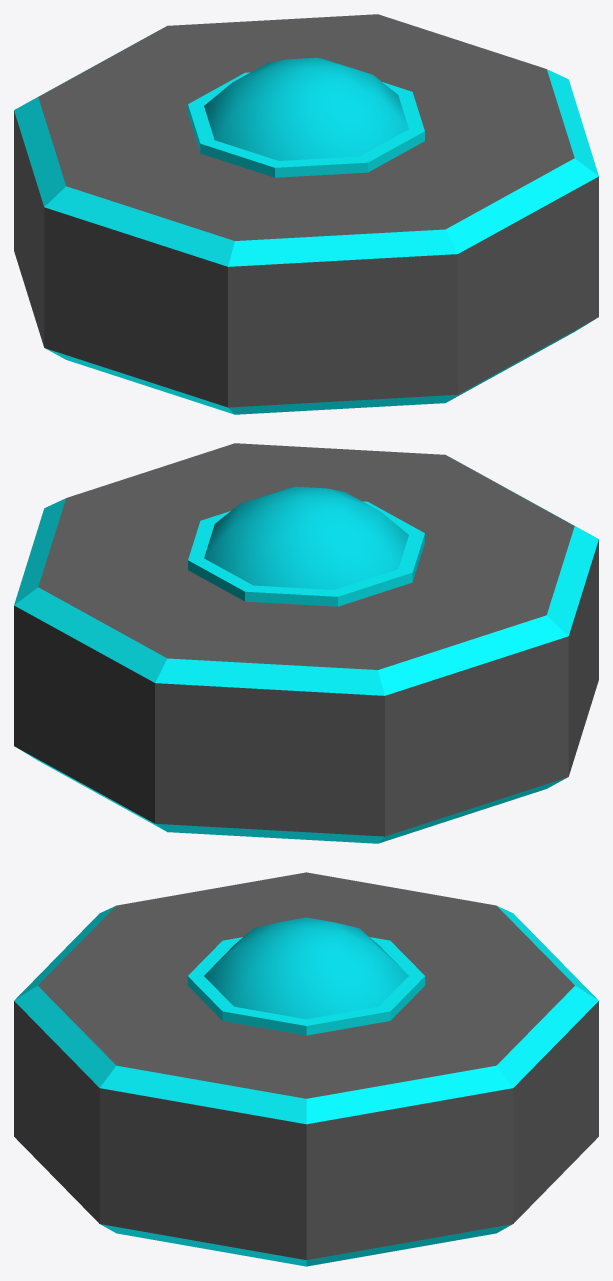
Rendered from BlueCore.fbx.
3 views of the same model, one above another, from view 1: azimuth 30°, elevation 25°; view 2: azimuth 150°, elevation 25°; view 3: azimuth 270°, elevation 25° (orthographic). The views are drawn at different scales.
Parts seen in each view (by area): view 1: polySurface11; view 2: polySurface11; view 3: polySurface11.
Part boxes in pixels (x1=…): polySurface11: x1=14, y1=14, x2=598, y2=414; polySurface11: x1=14, y1=443, x2=598, y2=843; polySurface11: x1=14, y1=872, x2=598, y2=1266.
Size of the model in its own units: 3.35 by 1.42 by 3.35.
